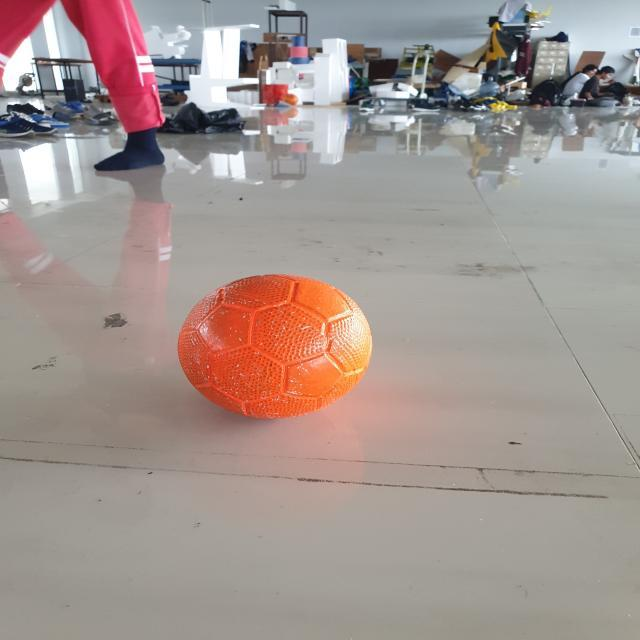bola: (165, 262, 386, 430)
